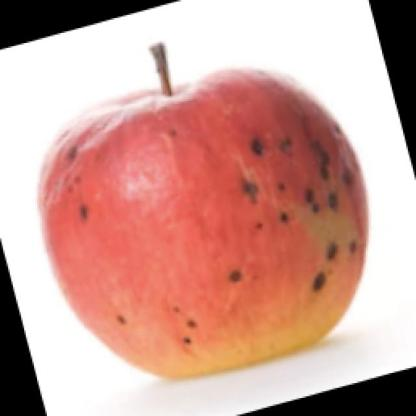defect: (203, 108, 363, 304), (63, 134, 117, 242)
